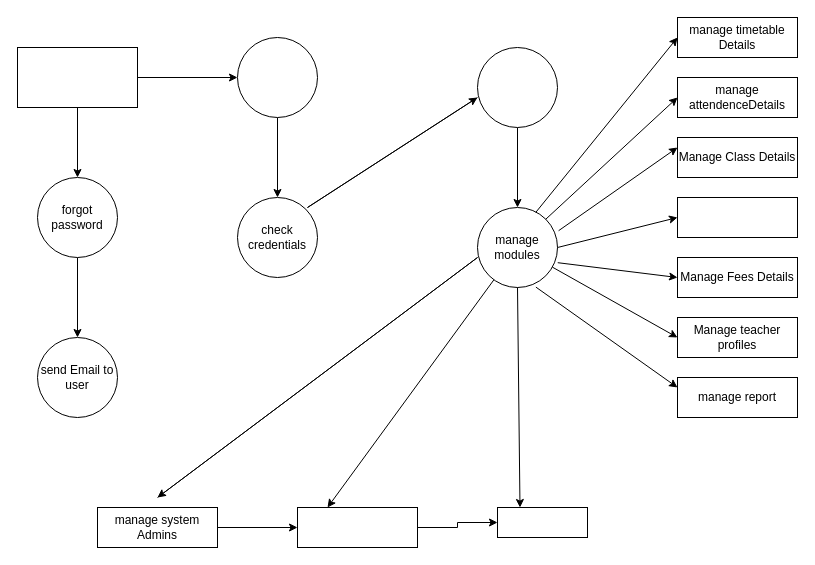
Some shapes in this 815 by 565 pixel diagram are drawn without their labels. Each missing label, with the box of its shape:
admin: (16, 46, 138, 108)
check roles of access: (476, 46, 558, 128)
login to system: (236, 36, 318, 118)
manage roles of user: (296, 506, 418, 548)
Manage Student Details: (676, 196, 798, 238)
manage user permission: (496, 506, 588, 538)
